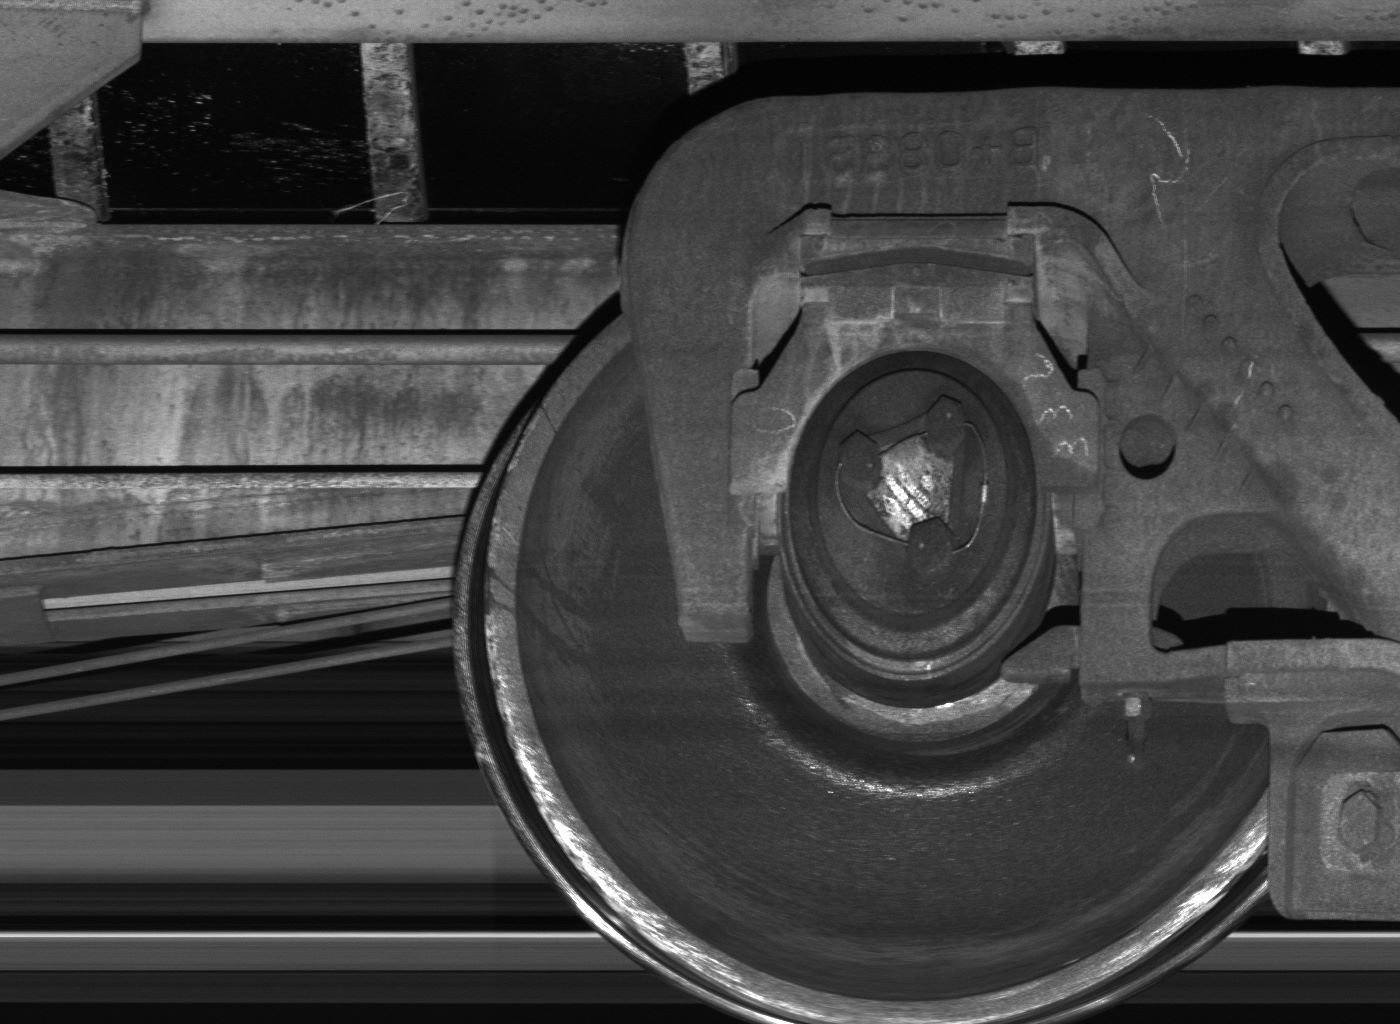normal: (1268, 704, 1396, 917)
